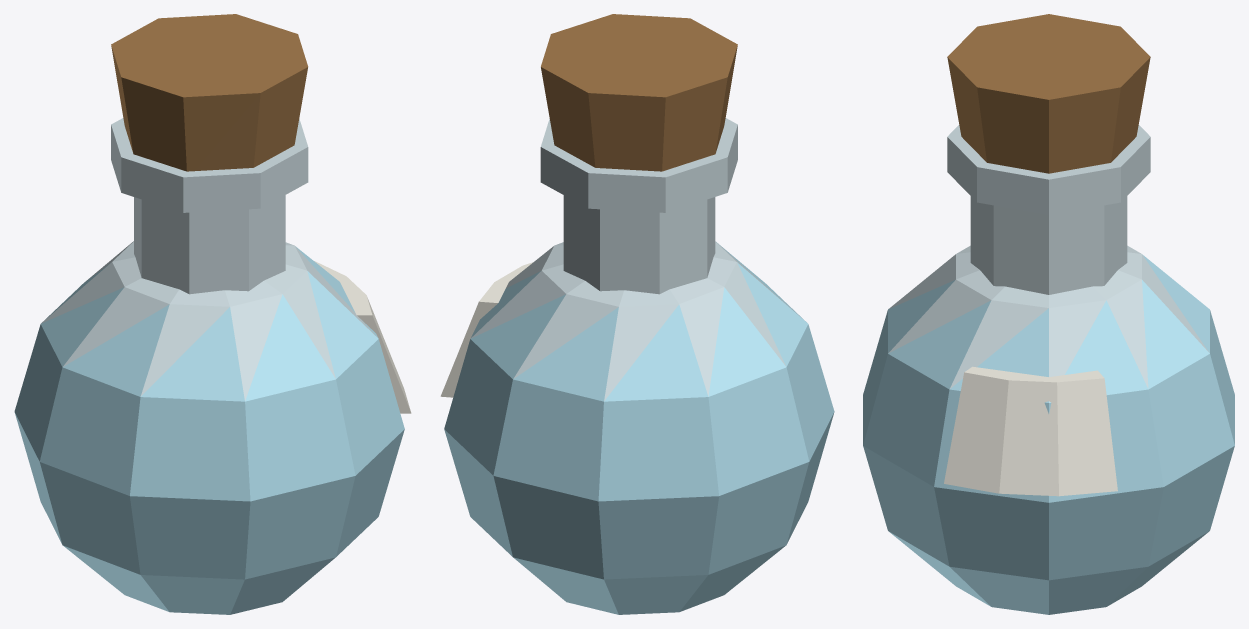
The model's file is vfem2_draught_painkiller.obj.
3 renders of one model, left to right at view 1: azimuth 30°, elevation 25°; view 2: azimuth 150°, elevation 25°; view 3: azimuth 270°, elevation 25°, orthographic.
Parts seen in each view (by area): view 1: vfem2_draught_painkiller; view 2: vfem2_draught_painkiller; view 3: vfem2_draught_painkiller.
Boxes of the visible parts, <box> form: vfem2_draught_painkiller: <box>14,14,411,614</box>; vfem2_draught_painkiller: <box>440,14,834,614</box>; vfem2_draught_painkiller: <box>863,14,1234,614</box>.
Bounding box in the file's own units: 0.2028 × 0.305 × 0.1902.
